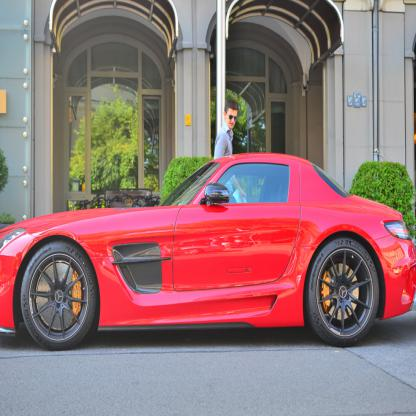Car: (0, 152, 415, 352)
